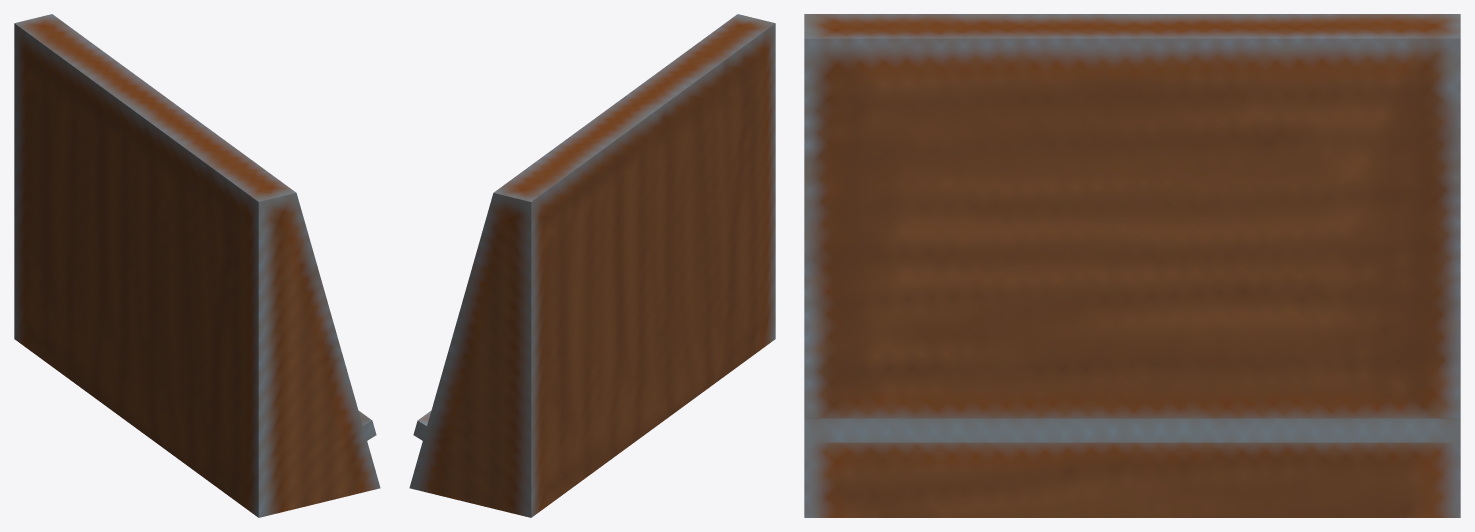
File: WeaponRack.fbx
3 renders of one model, left to right at view 1: azimuth 30°, elevation 25°; view 2: azimuth 150°, elevation 25°; view 3: azimuth 270°, elevation 25°, orthographic. The views are drawn at different scales.
Parts seen in each view (by area): view 1: pCube9; view 2: pCube9; view 3: pCube9.
Part boxes in pixels (x1,y1,x2,y2): pCube9: (14,14,380,517); pCube9: (409,14,775,517); pCube9: (804,14,1460,517).
Bounding box in the file's own units: 0.3117 × 0.7722 × 1.08.
